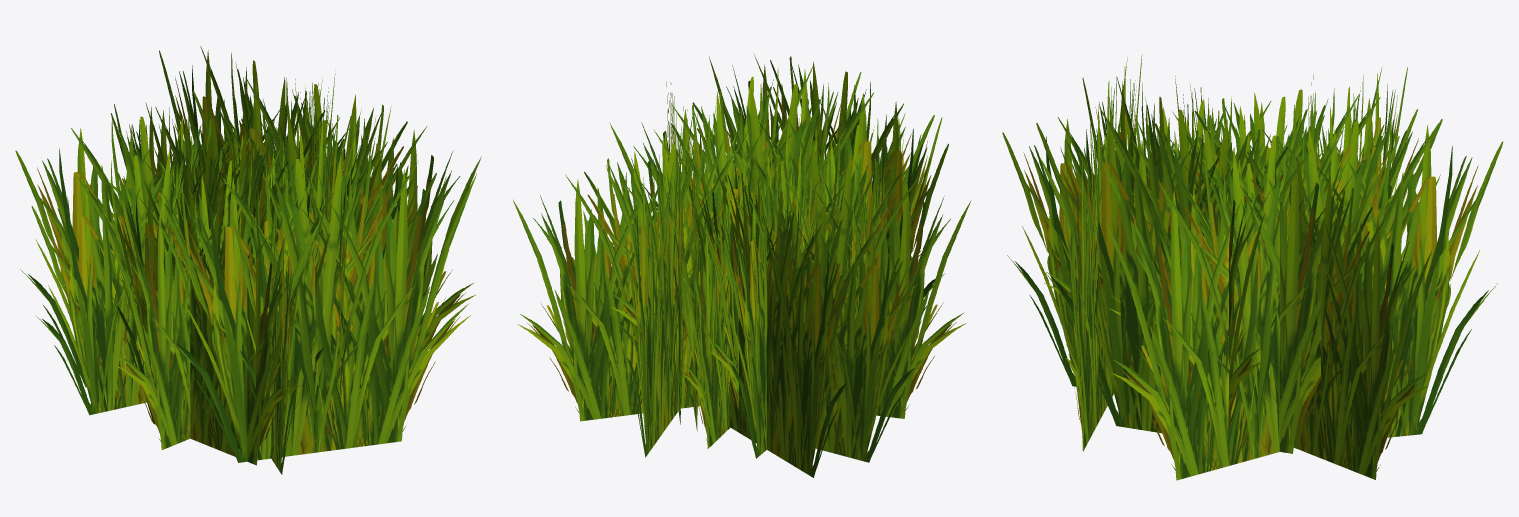
The model's file is Grass3.fbx.
The picture shows the model from 3 angles, left to right: view 1: azimuth 30°, elevation 25°; view 2: azimuth 150°, elevation 25°; view 3: azimuth 270°, elevation 25°; orthographic projection. The views are drawn at different scales.
Visible parts, largest first — view 1: GrassModel2.013; view 2: GrassModel2.013; view 3: GrassModel2.013.
Part boxes in pixels (left/top/right/bottom): GrassModel2.013: left=15, top=46, right=481, bottom=474; GrassModel2.013: left=513, top=54, right=971, bottom=477; GrassModel2.013: left=1002, top=54, right=1503, bottom=480.
Size of the model in its own units: 247 by 199 by 275.
